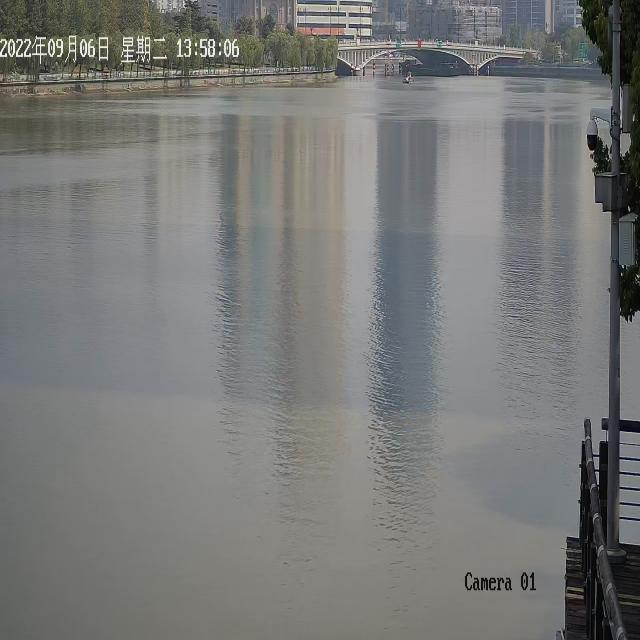ship: (400, 60, 460, 76), (402, 68, 413, 82)
